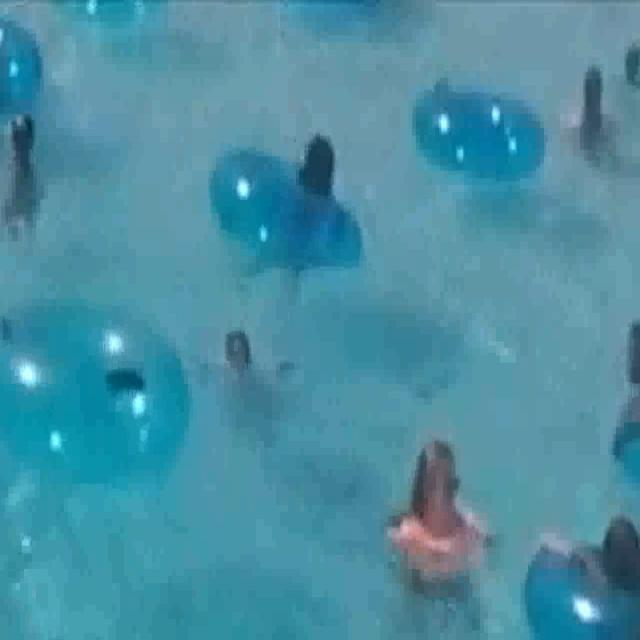Out of Water: (170, 306, 316, 435)
